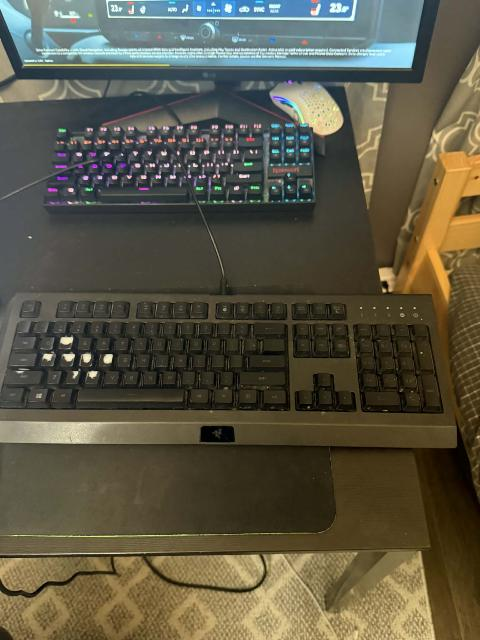ahkeyboard: (0, 274, 470, 475)
